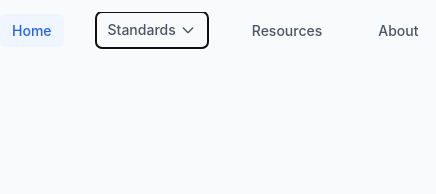
it: Navigation Consistency Tests › Focus Management › should maintain proper focus during dropdown navigation
This screenshot has width=436, height=194.
What coordinates should you click on to do the following:
click the button "Standards"
I would click on:
 (152, 30)
Its box is [96,12,208,48].
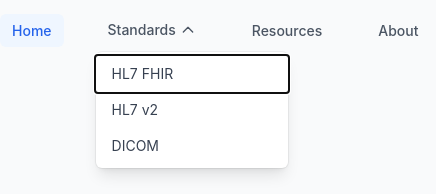
expect the link "HL7 FHIR" is shown: met, box [112,65,173,82]
